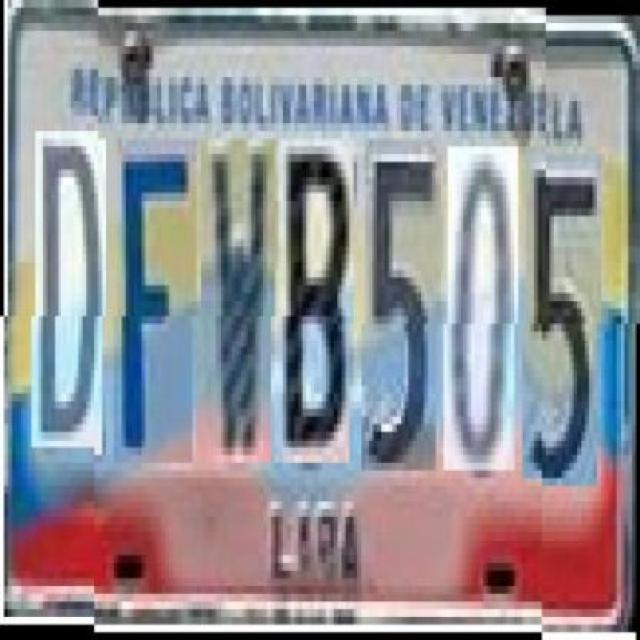5: (526, 146, 602, 479), (365, 138, 440, 471)
b: (278, 139, 354, 463)
d: (36, 138, 106, 456)
f: (117, 139, 197, 463)
o: (448, 146, 518, 471)
w: (200, 139, 275, 463)
